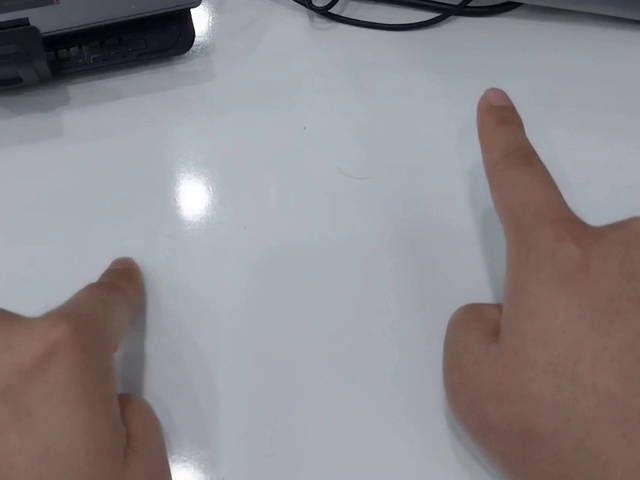fingers: (476, 86, 526, 132), (99, 255, 144, 304)
